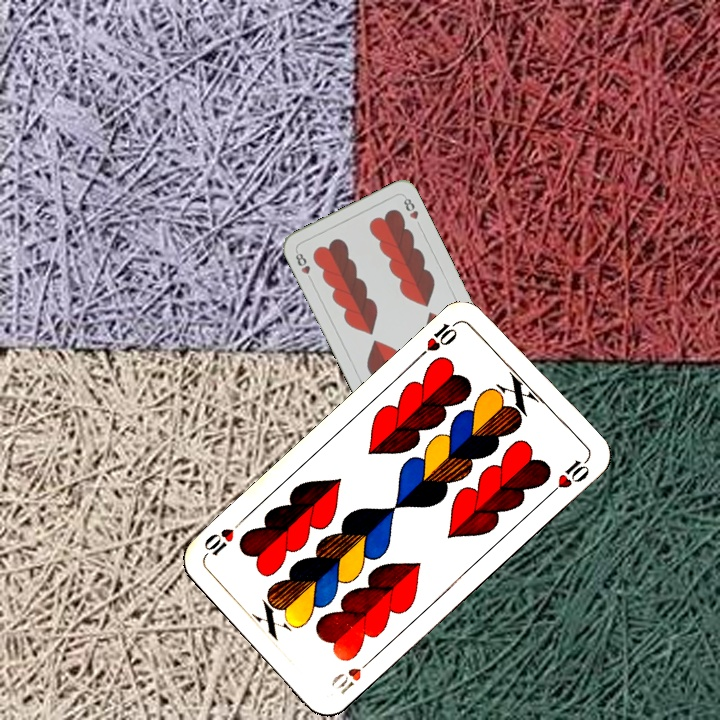H10: (326, 653, 377, 697), (413, 316, 462, 361)
H8: (291, 247, 315, 285)
